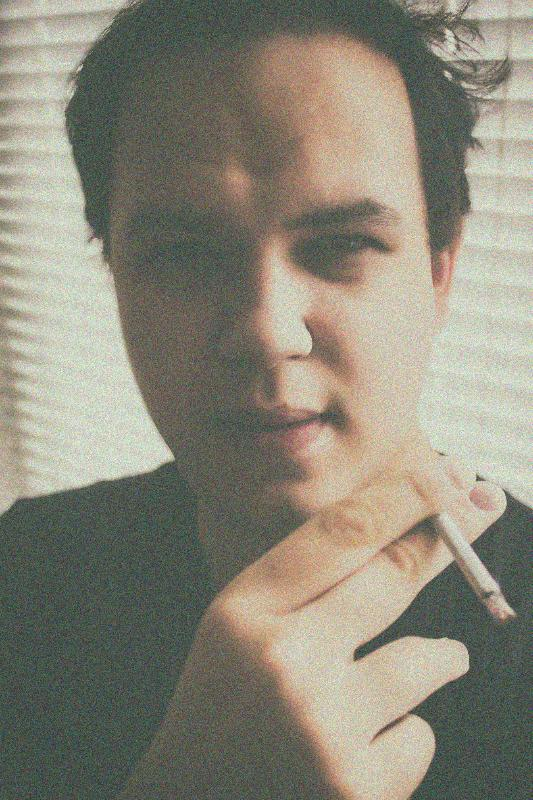Person: (5, 1, 533, 797)
